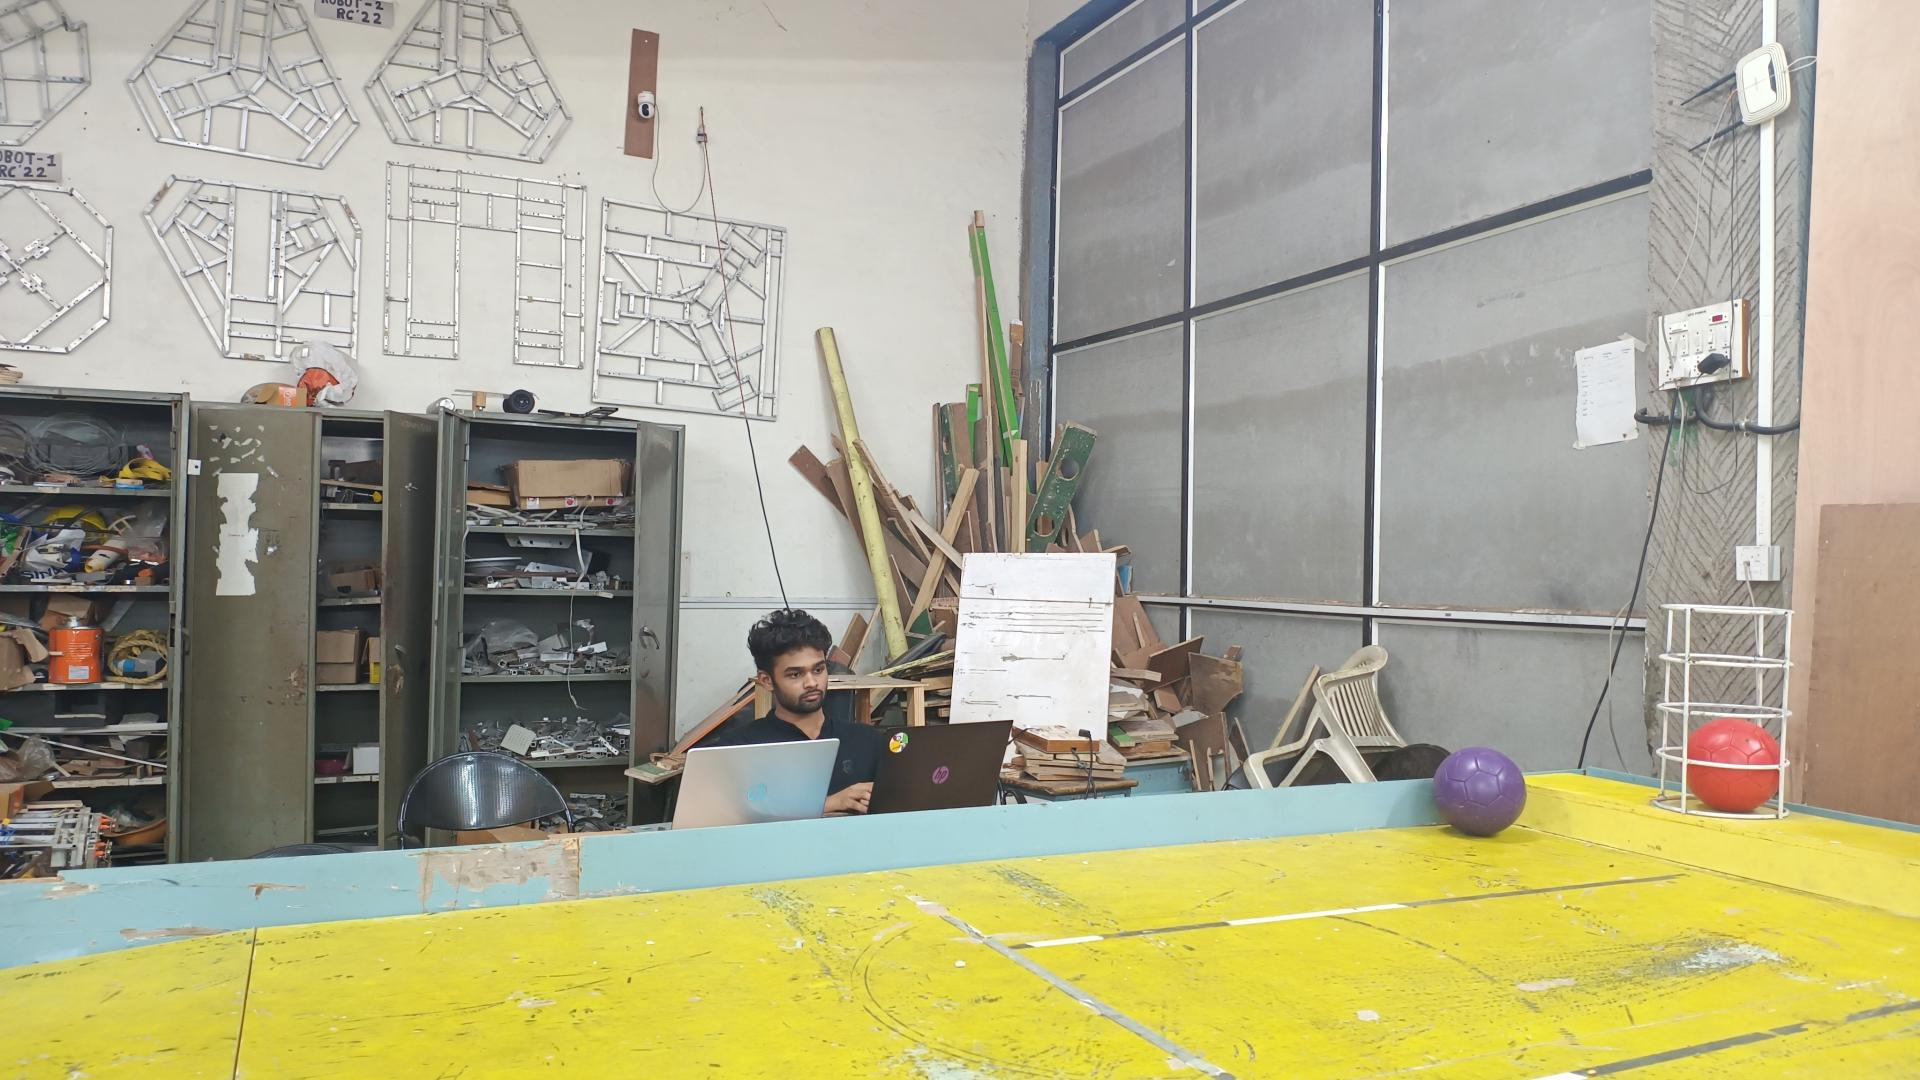laale: (1688, 716, 1782, 814)
